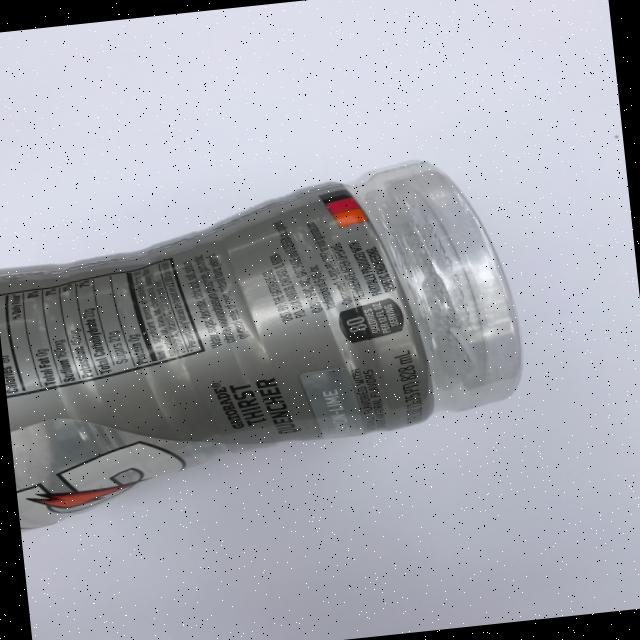plastic: (0, 149, 535, 530)
